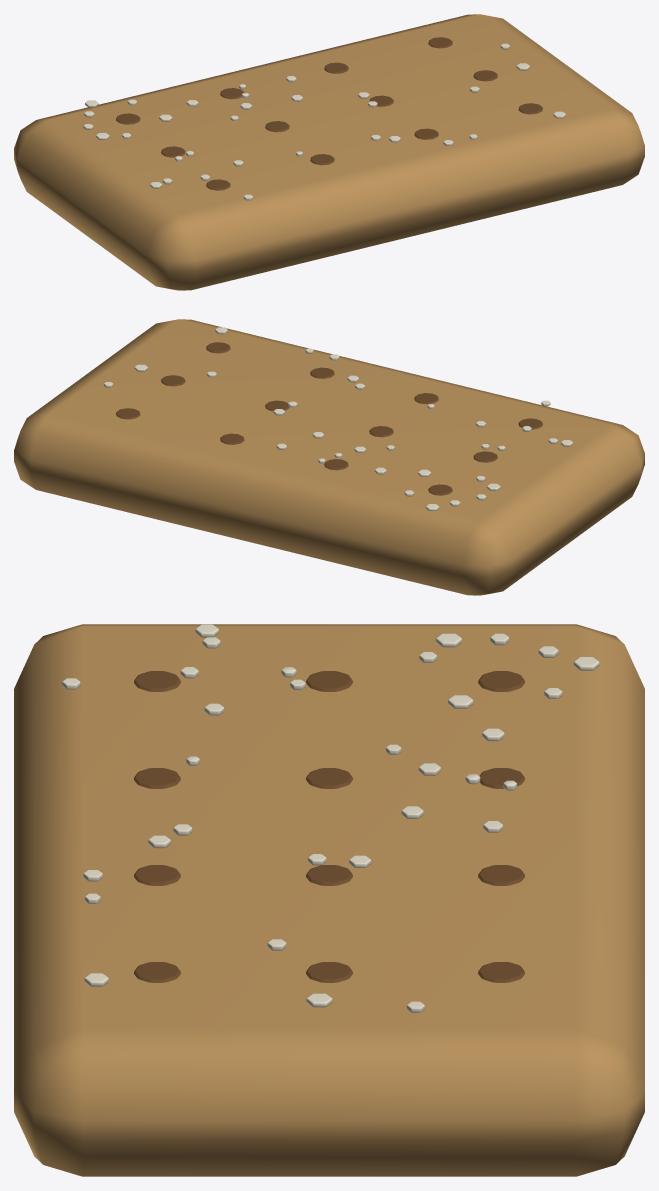
File: OatBiscuit.fbx
The picture shows the model from 3 angles, top to bottom: view 1: azimuth 30°, elevation 25°; view 2: azimuth 150°, elevation 25°; view 3: azimuth 270°, elevation 25°; orthographic projection. The views are drawn at different scales.
Visible parts, largest first — view 1: OatBiscuit.001; view 2: OatBiscuit.001; view 3: OatBiscuit.001.
Boxes of the visible parts, x1,y1,x2,y2 form: OatBiscuit.001: [14, 14, 644, 290]; OatBiscuit.001: [14, 319, 644, 595]; OatBiscuit.001: [14, 624, 644, 1176].
Bounding box in the file's own units: 9.5 × 1.48 × 5.5.
